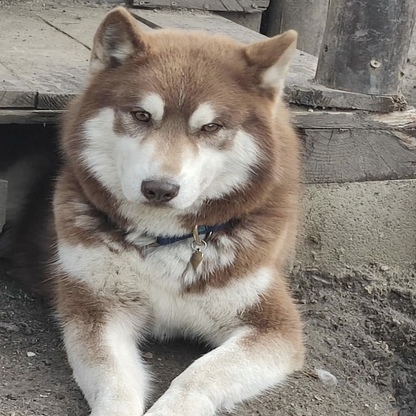husky: (44, 6, 312, 416)
